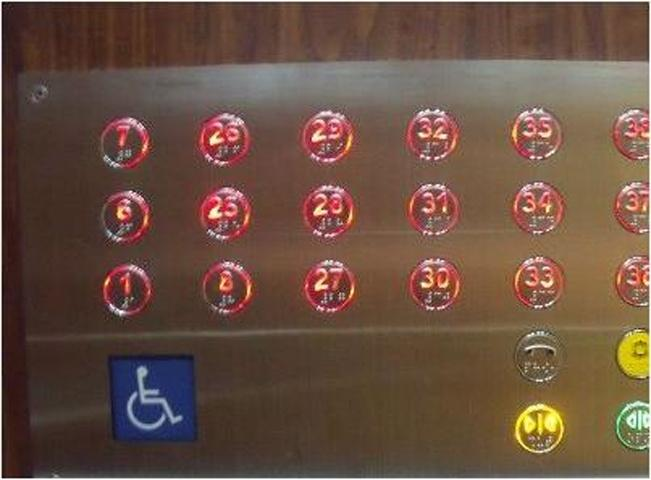1: (100, 263, 152, 316)
25: (197, 183, 251, 244)
26: (196, 109, 251, 167)
27: (301, 256, 357, 313)
28: (299, 181, 355, 239)
29: (298, 106, 353, 164)
30: (405, 253, 463, 311)
31: (405, 180, 461, 236)
32: (404, 103, 460, 163)
33: (511, 255, 566, 310)
34: (510, 179, 566, 236)
35: (508, 104, 564, 161)
6: (98, 187, 150, 244)
7: (96, 113, 151, 171)
8: (197, 258, 256, 315)
alarm: (615, 327, 650, 378)
call: (511, 326, 566, 384)
close: (511, 399, 565, 453)
open: (612, 398, 650, 449)
unknown: (107, 351, 199, 448)
